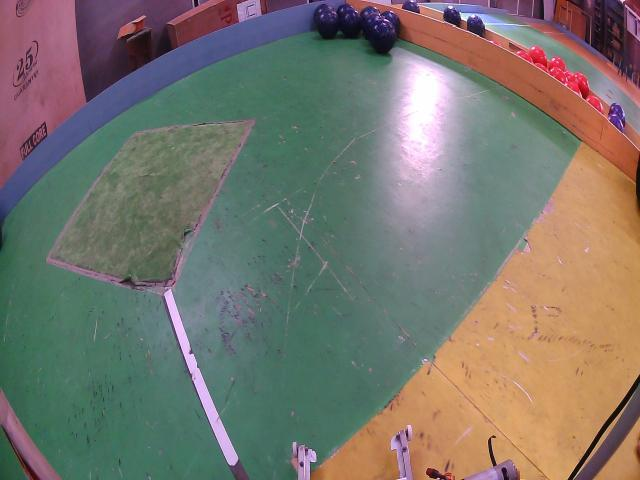jambhalya: (609, 104, 626, 123), (609, 114, 624, 133)
kaalyya: (369, 20, 396, 53), (316, 9, 340, 39), (340, 9, 363, 38), (364, 13, 384, 40), (383, 11, 401, 36), (467, 15, 484, 36), (314, 3, 333, 21), (444, 6, 461, 26), (336, 4, 354, 18), (403, 0, 420, 13), (361, 7, 380, 18)
